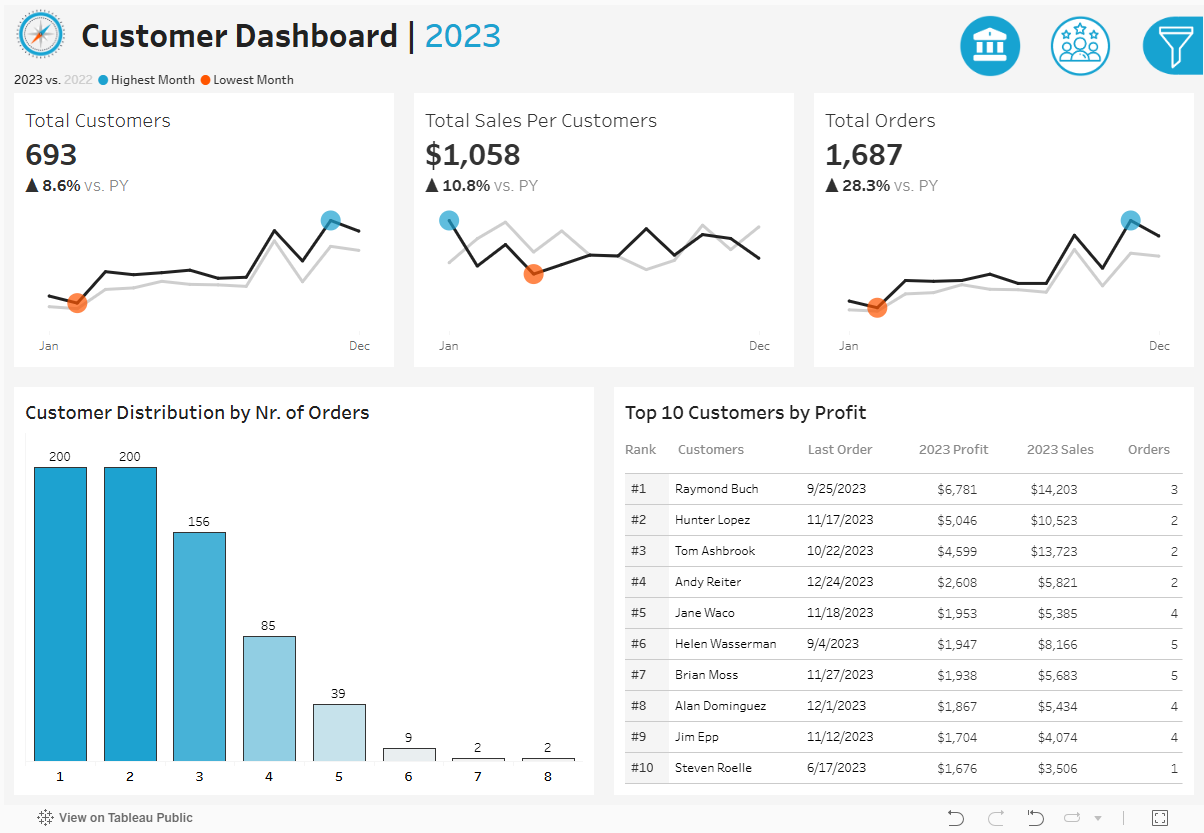

What the dashboard file says about the page in this screenshot:
{"tool":"tableau","page":{"name":"Customer Dashboard","canvas":[1200,800],"ordinal":0},"visuals":[{"type":"image","param":"Image/Icon - Logo.png","box":[0,0,73,59]},{"type":"text","box":[73,0,820,59]},{"type":"dashboard-object","box":[940,6,91,70]},{"type":"dashboard-object","box":[1031,6,91,70]},{"type":"blank","box":[952,10,237,86]},{"type":"worksheet","title":"Legend KPI","mark":"Automatic","box":[0,59,1200,29]},{"type":"worksheet","title":"KPI Customers","mark":"Automatic","rows":["Min/Max Quantity (copy)_3221481164588691468"],"cols":["Order Date"],"box":[0,88,400,284]},{"type":"worksheet","title":"KPI Sales Per Customers","mark":"Automatic","rows":["Min/Max Quantity (copy)_3221481164537155591"],"cols":["Order Date"],"box":[400,88,400,284]},{"type":"worksheet","title":"KPI Orders","mark":"Automatic","rows":["Min/Max Sales (copy)_3221481164601258003"],"cols":["Order Date"],"box":[800,88,400,284]},{"type":"text","box":[952,96,237,37]},{"type":"parameter","param":"[Parameters].[Parameter 1]","box":[952,133,237,55]},{"type":"text","box":[952,188,237,32]},{"type":"filter","title":"KPI Customers","param":"[federated.1kpxa041aiai2y1cl4pui1t4eju9].[none:Category:nk]","box":[952,220,237,57]},{"type":"filter","title":"KPI Customers","param":"[federated.1kpxa041aiai2y1cl4pui1t4eju9].[none:Sub-Category:nk]","box":[952,277,237,57]},{"type":"blank","box":[952,334,237,60]},{"type":"text","box":[17,389,566,40]},{"type":"text","box":[617,389,566,40]},{"type":"text","box":[952,394,237,32]},{"type":"filter","title":"KPI Customers","param":"[federated.1kpxa041aiai2y1cl4pui1t4eju9].[none:Region:nk]","box":[952,426,237,57]},{"type":"worksheet","title":"Customer Distribution","mark":"Bar","rows":["CY Sales (copy)_3221481164532666369"],"cols":["Calculation_998110323739992064"],"box":[17,429,566,354]},{"type":"text","box":[617,429,53,40]},{"type":"text","box":[670,429,130,40]},{"type":"text","box":[800,429,111,40]},{"type":"text","box":[911,429,108,40]},{"type":"text","box":[1019,429,101,40]},{"type":"text","box":[1120,429,63,40]},{"type":"worksheet","title":"Top Customers","mark":"Automatic","rows":["Calculation_782500491678904334","Customer Name","Order Date"],"box":[617,469,566,314]},{"type":"filter","title":"KPI Customers","param":"[federated.1kpxa041aiai2y1cl4pui1t4eju9].[none:State:nk]","box":[952,483,237,57]},{"type":"filter","title":"KPI Customers","param":"[federated.1kpxa041aiai2y1cl4pui1t4eju9].[none:City:nk]","box":[952,540,237,57]}]}

Visuals, with their boxes on the page's 1200x800 design canvas (x1, y1, x2, y2). These are canvas units, not pixel positions in the 1204x833 screenshot, which may show the page scaled, cropped or inside an application window:
image: (0, 0, 73, 59)
text: (73, 0, 893, 59)
dashboard-object: (940, 6, 1031, 76)
dashboard-object: (1031, 6, 1122, 76)
blank: (952, 10, 1189, 96)
"Legend KPI" worksheet: (0, 59, 1200, 88)
"KPI Customers" worksheet: (0, 88, 400, 372)
"KPI Sales Per Customers" worksheet: (400, 88, 800, 372)
"KPI Orders" worksheet: (800, 88, 1200, 372)
text: (952, 96, 1189, 133)
parameter: (952, 133, 1189, 188)
text: (952, 188, 1189, 220)
"KPI Customers" filter: (952, 220, 1189, 277)
"KPI Customers" filter: (952, 277, 1189, 334)
blank: (952, 334, 1189, 394)
text: (17, 389, 583, 429)
text: (617, 389, 1183, 429)
text: (952, 394, 1189, 426)
"KPI Customers" filter: (952, 426, 1189, 483)
"Customer Distribution" worksheet (Bar marks): (17, 429, 583, 783)
text: (617, 429, 670, 469)
text: (670, 429, 800, 469)
text: (800, 429, 911, 469)
text: (911, 429, 1019, 469)
text: (1019, 429, 1120, 469)
text: (1120, 429, 1183, 469)
"Top Customers" worksheet: (617, 469, 1183, 783)
"KPI Customers" filter: (952, 483, 1189, 540)
"KPI Customers" filter: (952, 540, 1189, 597)
